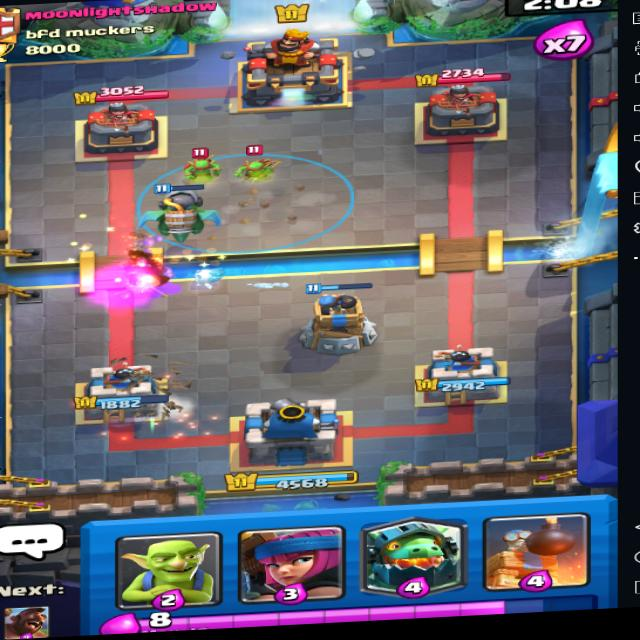Speargoblin: (177, 147, 220, 185), (236, 144, 280, 181)
